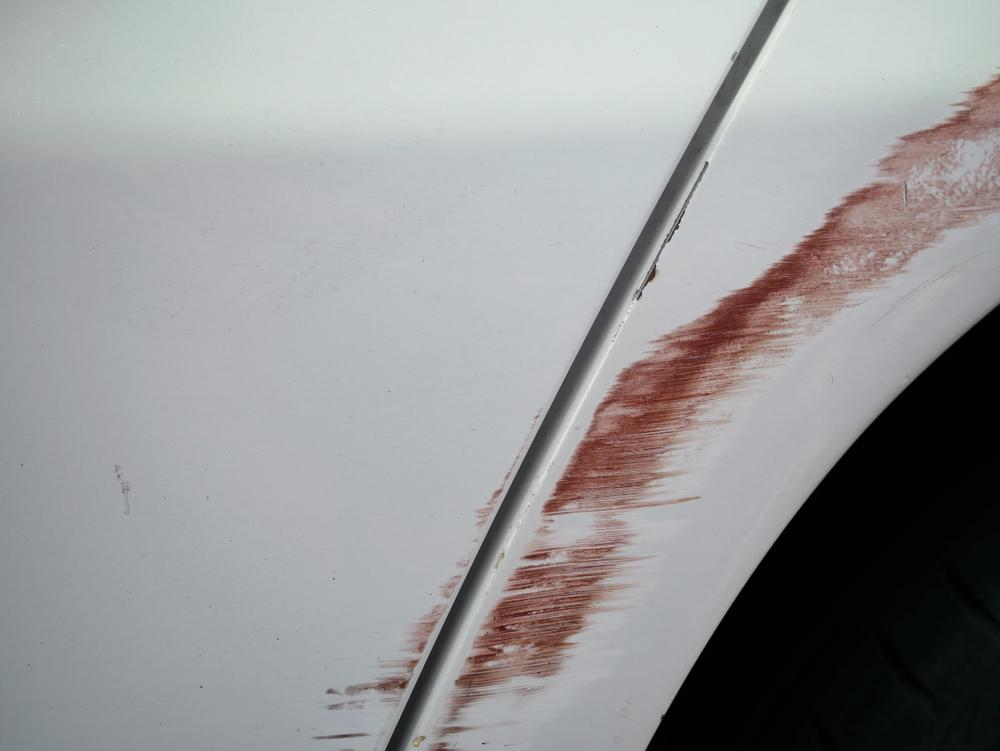scratch: (413, 66, 1000, 751), (298, 405, 543, 751)
